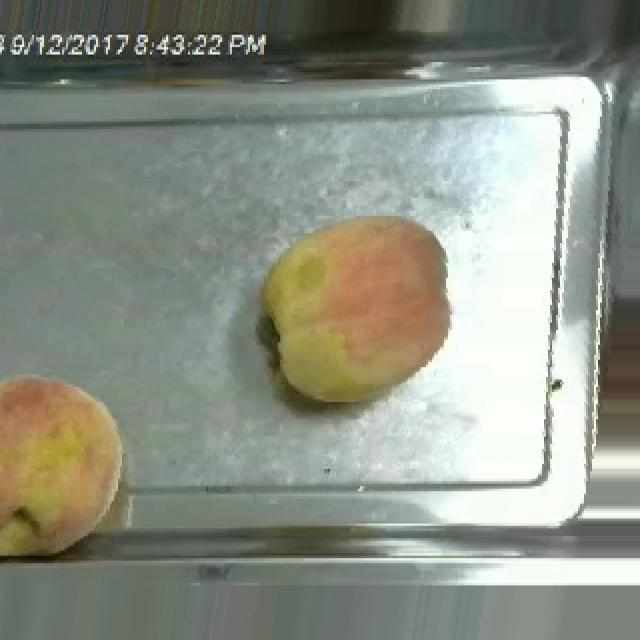Fruit: (254, 206, 458, 407), (0, 362, 134, 558)
